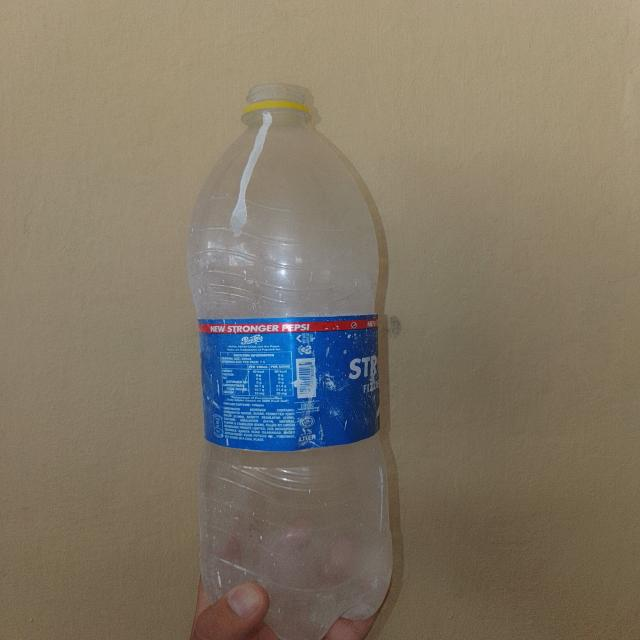bottle: (164, 72, 421, 640)
label: (189, 312, 396, 456)
